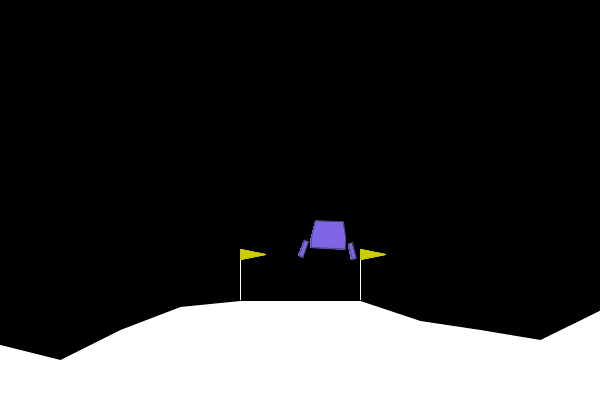lander: (297, 218, 359, 261)
